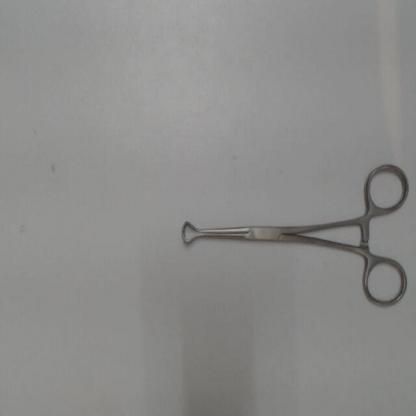Babcock Tissue Forceps: (178, 156, 412, 312)
